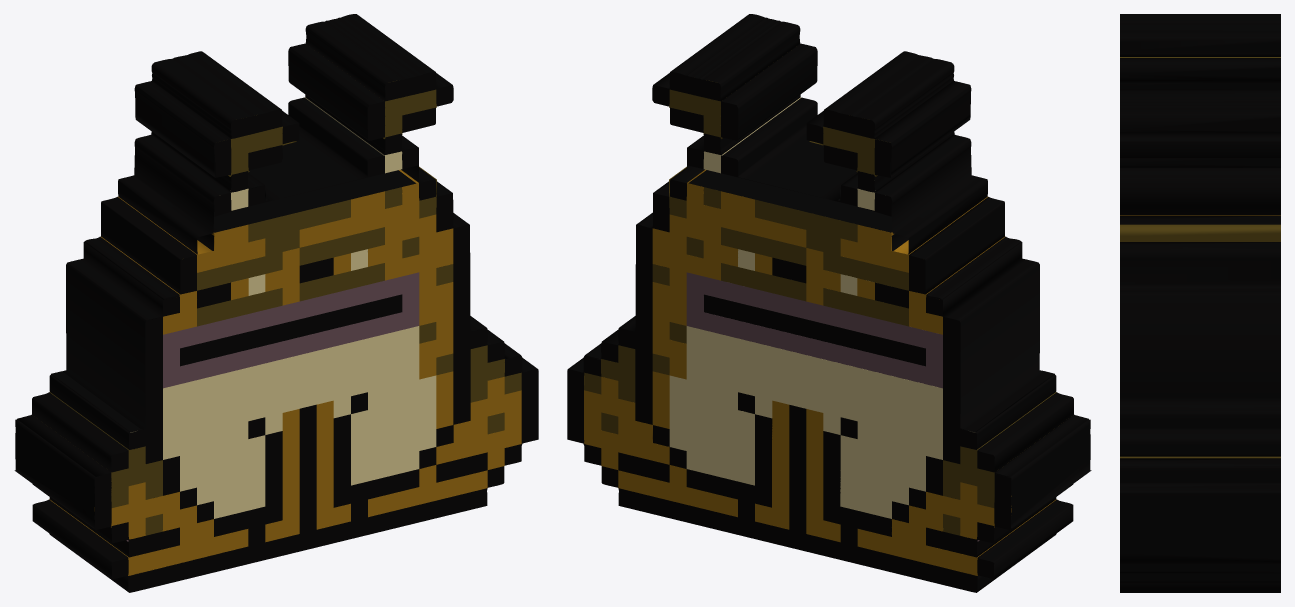
File: Toadz_6608.glb
3 renders of one model, left to right at view 1: azimuth 30°, elevation 25°; view 2: azimuth 150°, elevation 25°; view 3: azimuth 270°, elevation 25°, orthographic.
Parts seen in each view (by area): view 1: Curve; view 2: Curve; view 3: Curve.
Boxes of the visible parts, x1,y1,x2,y2 form: Curve: (14, 14, 538, 592); Curve: (567, 14, 1091, 592); Curve: (1120, 14, 1280, 592).
Size of the model in its own units: 3.24 by 3.11 by 1.
